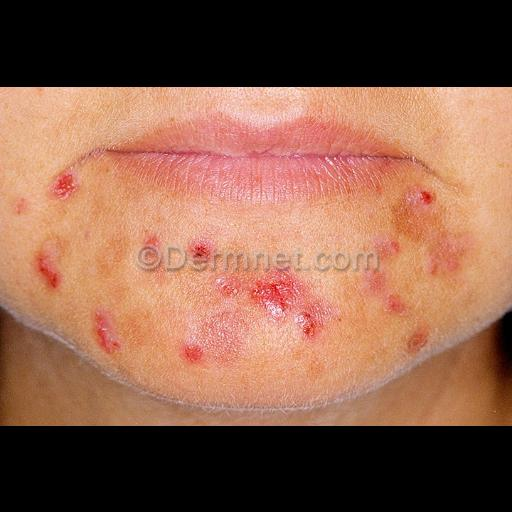Skin_Lesion: (179, 310, 233, 368), (221, 270, 299, 310), (364, 265, 412, 321), (25, 253, 83, 293), (425, 234, 473, 278), (88, 310, 124, 352), (42, 169, 84, 203), (411, 178, 441, 218), (186, 236, 218, 268), (302, 310, 324, 344), (136, 228, 166, 252), (408, 324, 428, 356), (378, 237, 406, 257)
